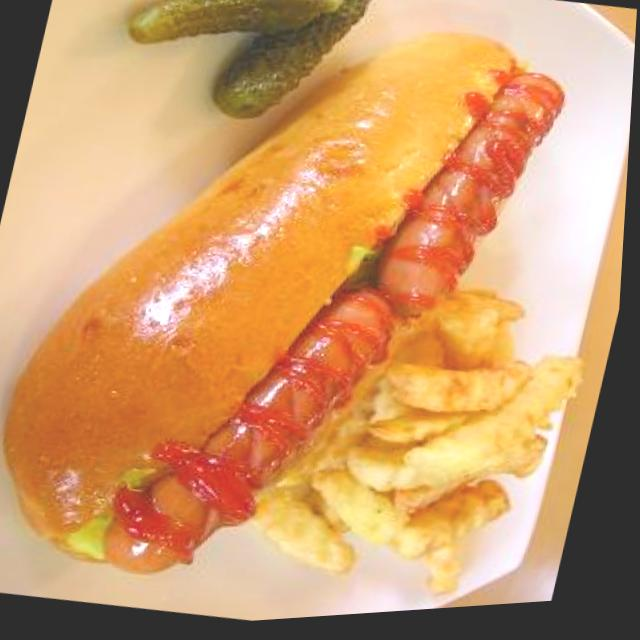汉堡快餐: (0, 0, 559, 640)
